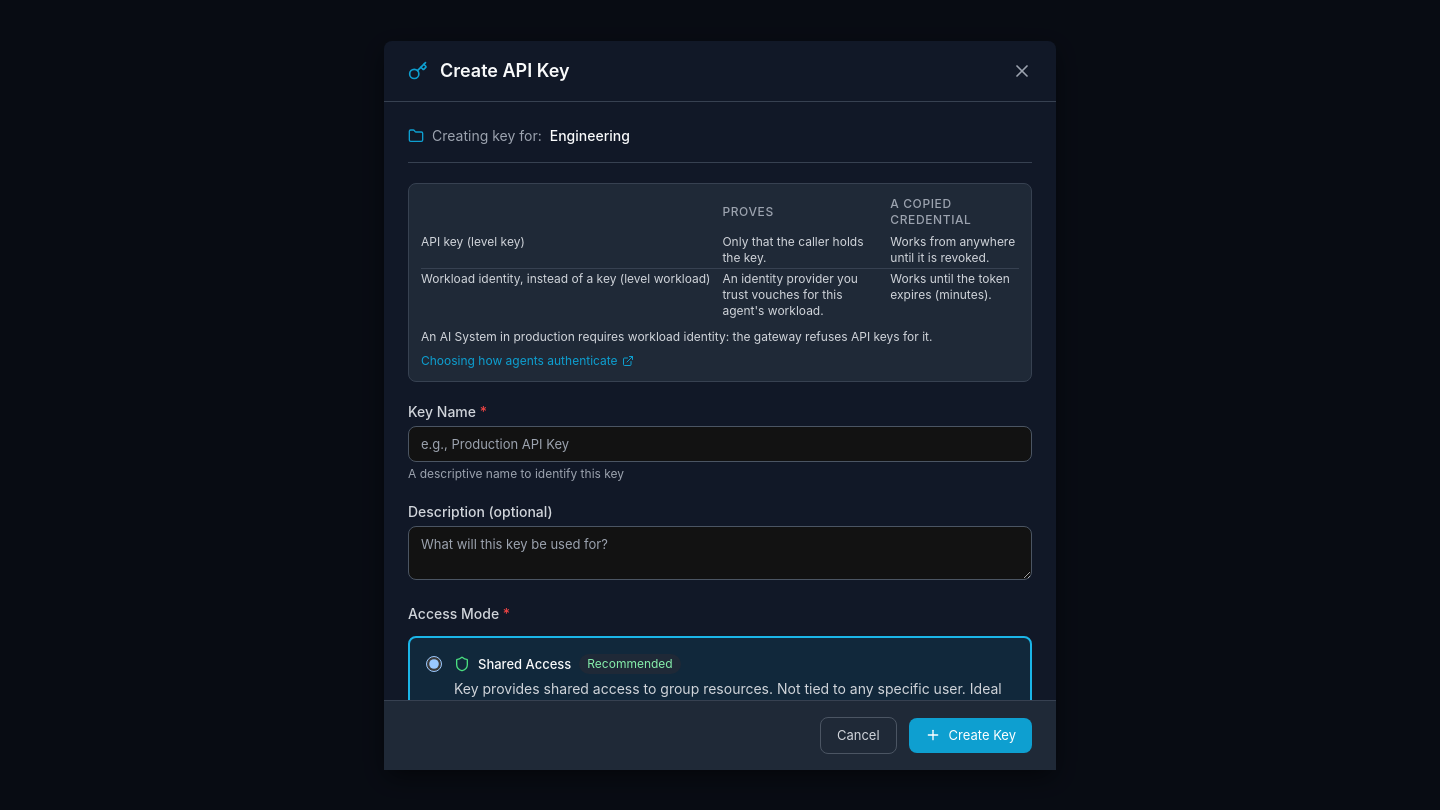
Test case: CreateGroupKeyModal › a create refused for its expiry says the ceiling
Type "k" into the field with placeholder "e.g., Production API Key" at (720, 444), box [408, 426, 1032, 462]
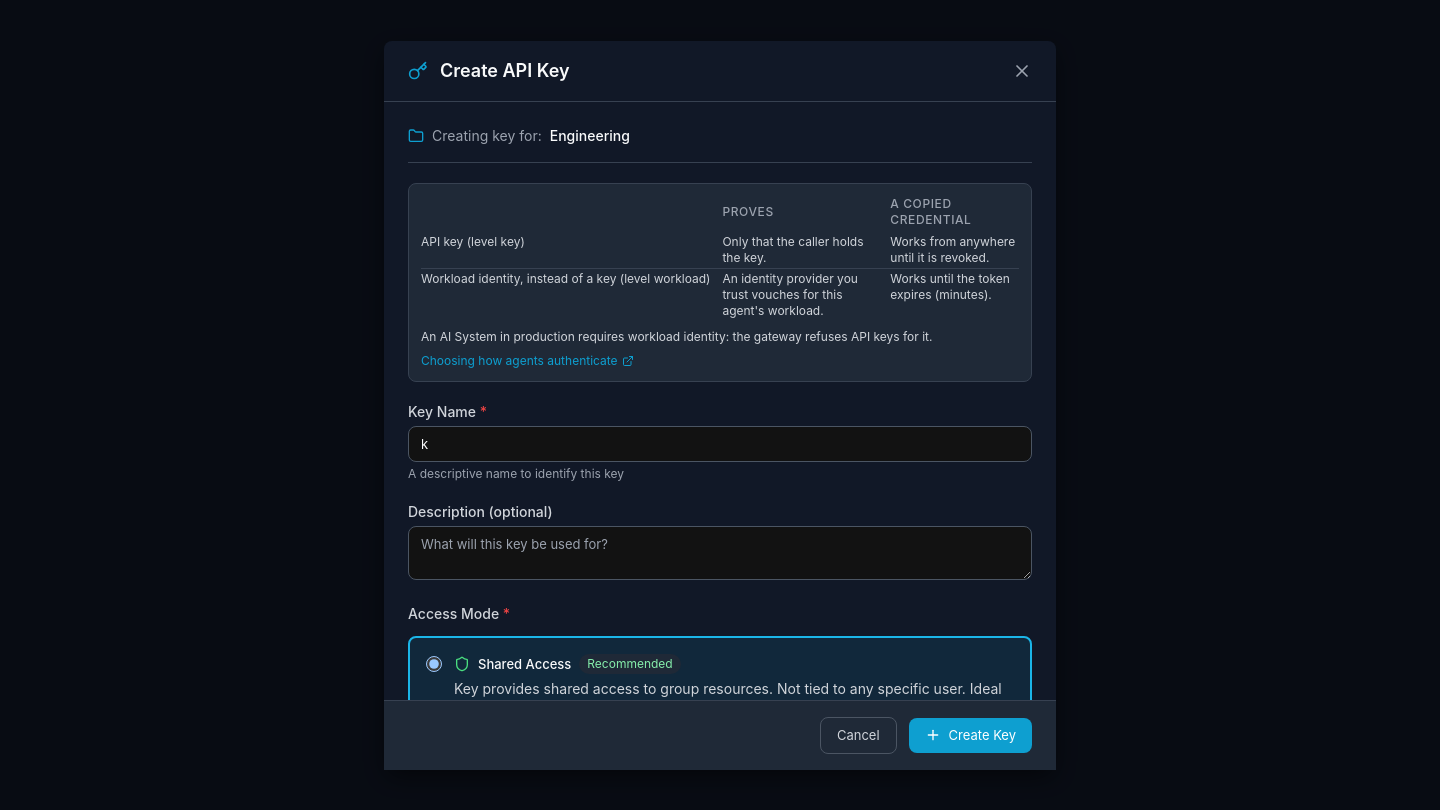
Click the button "Create Key" at (970, 735), box [909, 718, 1032, 752]
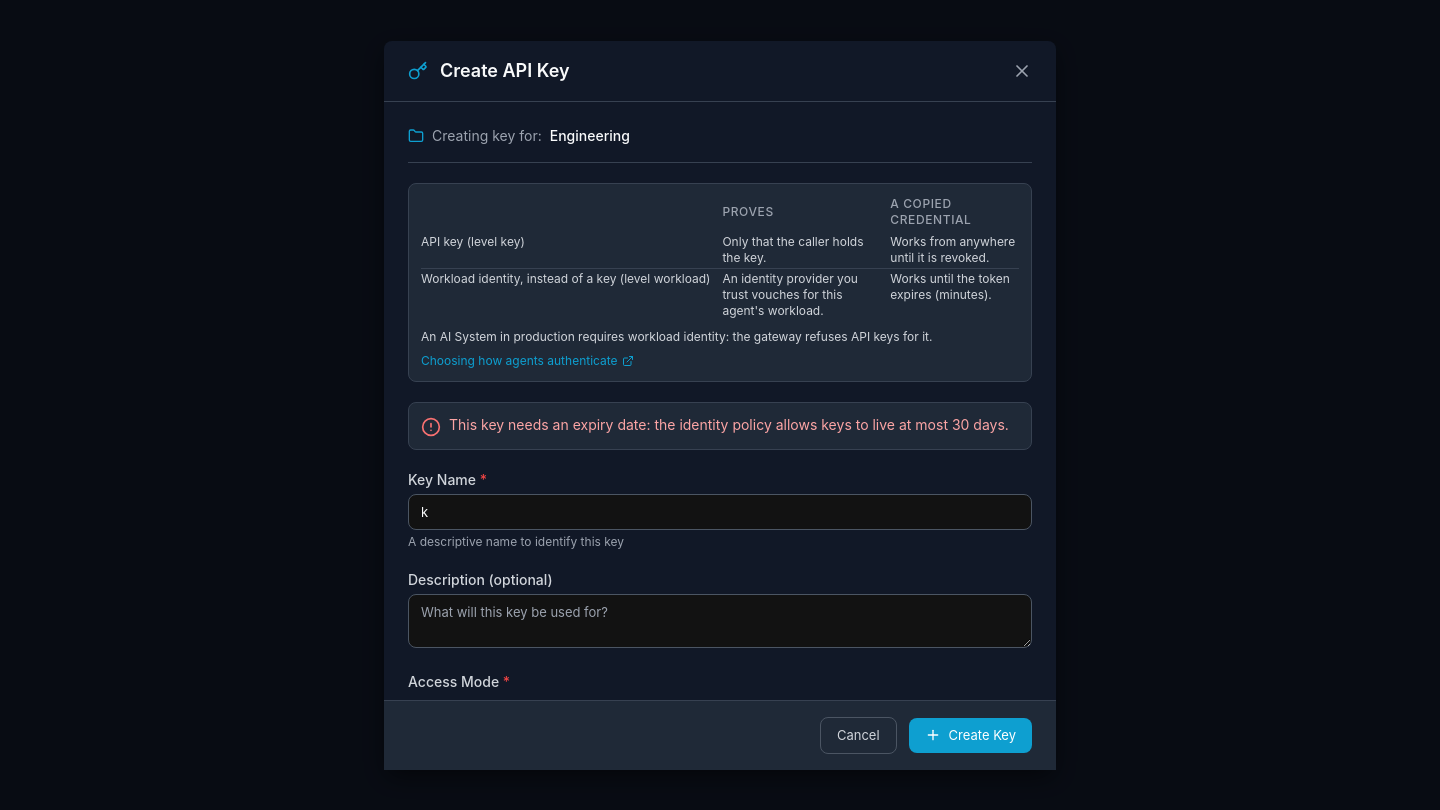
Expected: the text "at most 30 days" is shown, [449, 416, 1009, 432]
